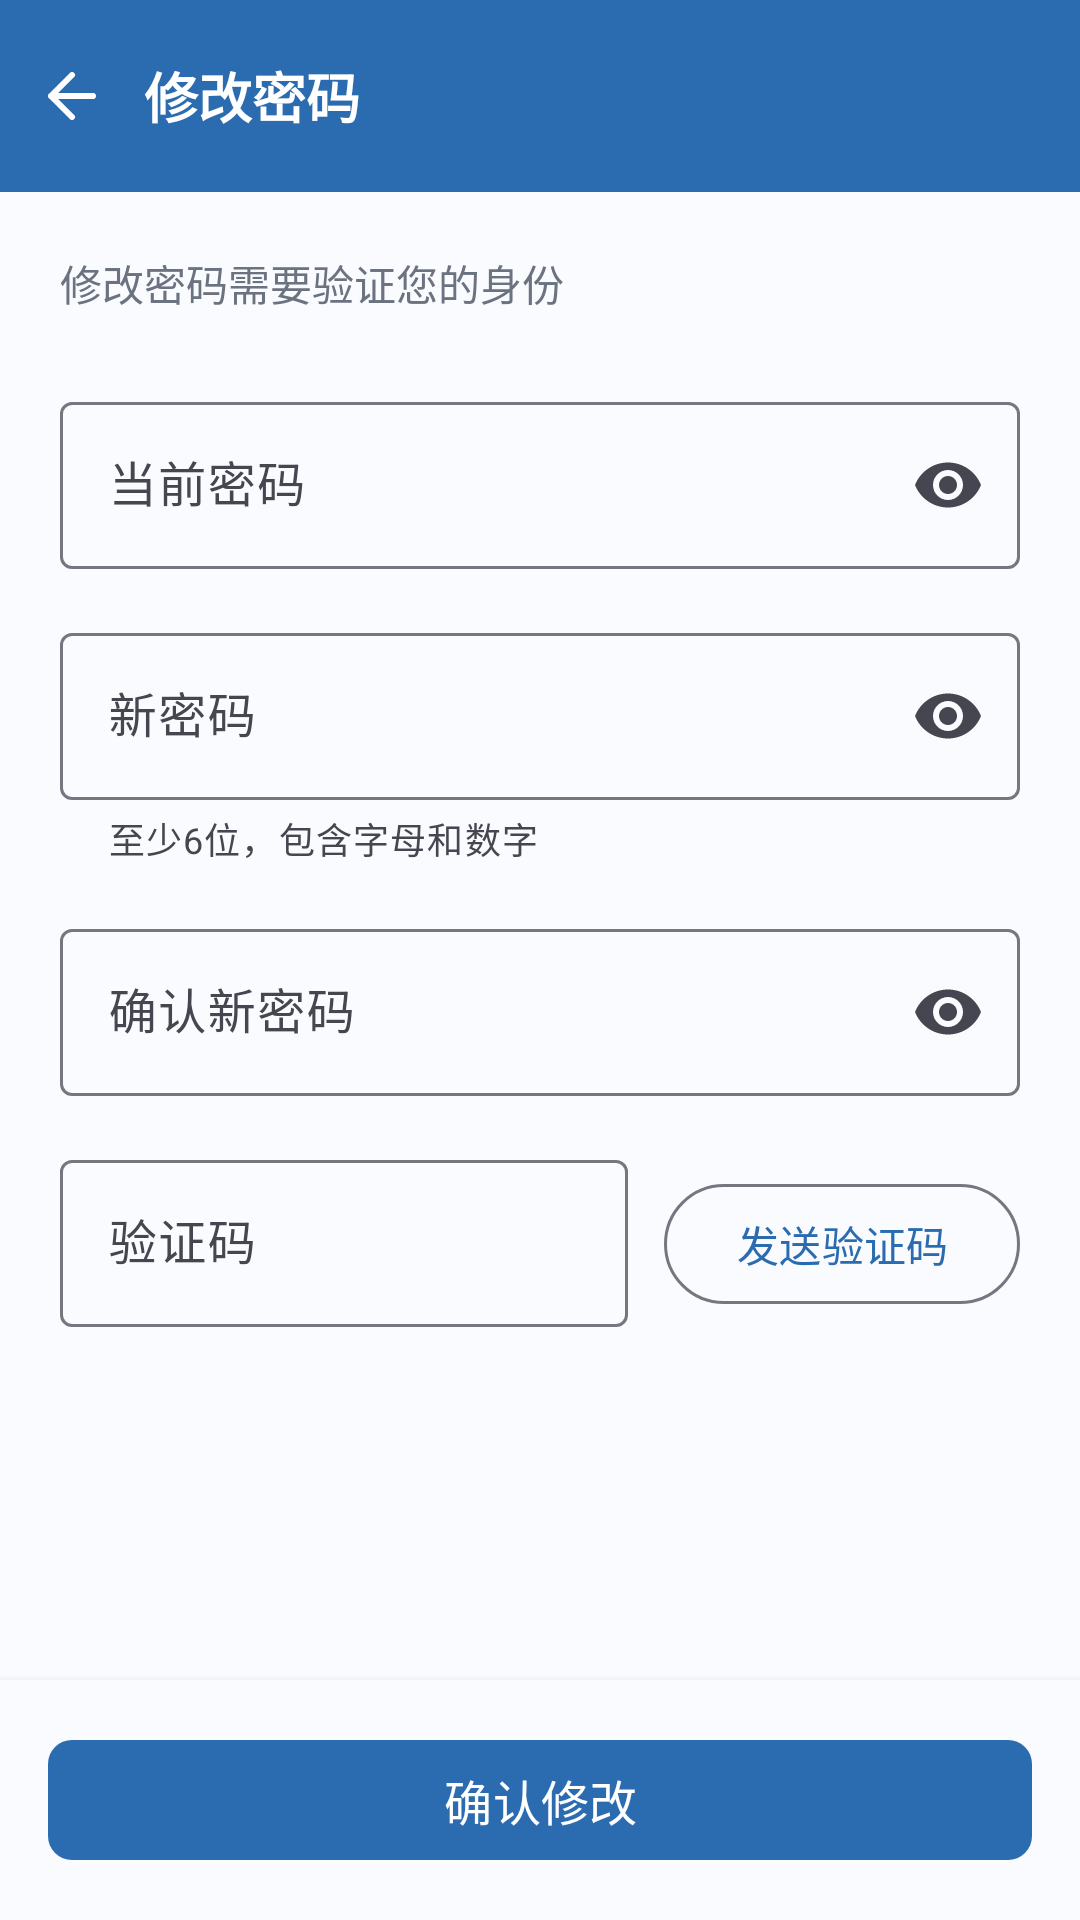

Icons on this 1080 × 1920 Android screen, each with the point to tap as point (x, y):
返回: point (72, 96)
